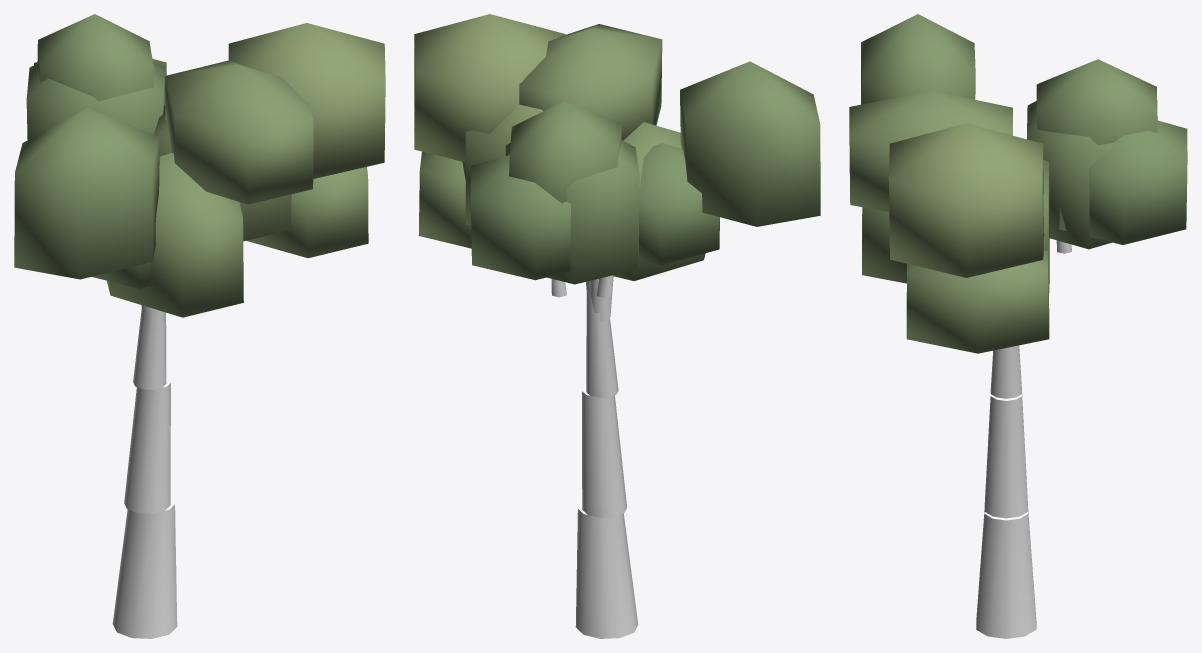
The model's file is oak_v3_mid.gltf.
The picture shows the model from 3 angles, left to right: view 1: azimuth 30°, elevation 25°; view 2: azimuth 150°, elevation 25°; view 3: azimuth 270°, elevation 25°; orthographic projection. The views are drawn at different scales.
Parts seen in each view (by area): view 1: foliage, bark; view 2: foliage, bark; view 3: foliage, bark.
Boxes of the visible parts, x1,y1,x2,y2 form: foliage: (14, 14, 385, 317); bark: (112, 305, 177, 638); foliage: (414, 14, 820, 284); bark: (551, 275, 638, 638); foliage: (849, 14, 1187, 353); bark: (976, 240, 1071, 638).
Bounding box in the file's own units: 3.65 × 5.15 × 2.77.
